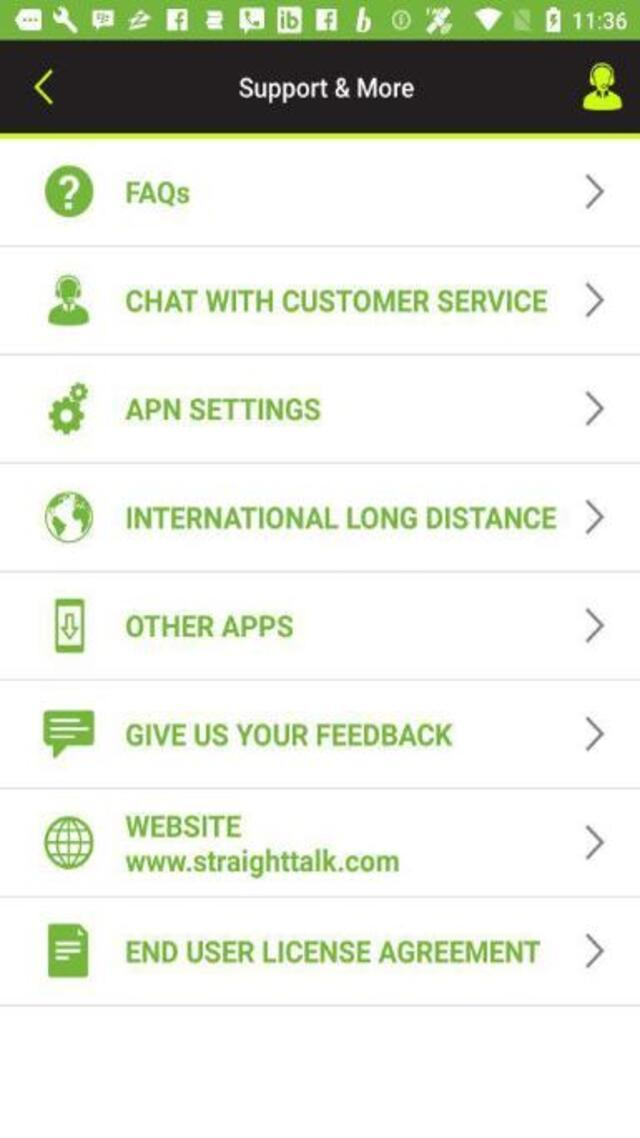Icon: (45, 815, 95, 868), (46, 492, 94, 544), (44, 166, 92, 218), (42, 711, 94, 758), (47, 272, 89, 324), (48, 380, 88, 434), (48, 923, 88, 976), (582, 62, 622, 112), (55, 598, 85, 654), (32, 69, 54, 105), (584, 823, 604, 859), (584, 606, 604, 642), (585, 389, 605, 425), (584, 173, 604, 208), (585, 932, 605, 966), (584, 716, 604, 750), (584, 498, 604, 532), (585, 282, 605, 316)
Text: (127, 506, 556, 529), (126, 289, 546, 312), (126, 940, 540, 963), (125, 848, 398, 878), (125, 720, 452, 745), (238, 77, 414, 104), (126, 398, 320, 421), (126, 612, 292, 636), (127, 813, 242, 838), (126, 178, 190, 206)
